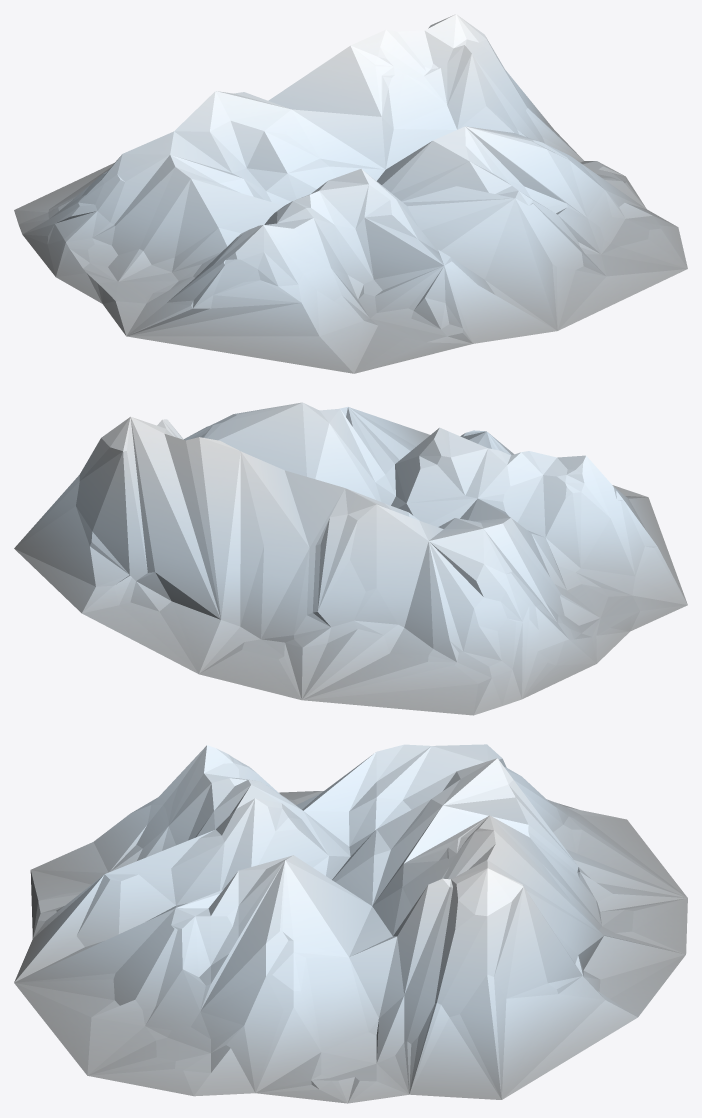
File: Mountain_002.FBX
3 renders of one model, top to bottom at view 1: azimuth 30°, elevation 25°; view 2: azimuth 150°, elevation 25°; view 3: azimuth 270°, elevation 25°, orthographic. The views are drawn at different scales.
Parts seen in each view (by area): view 1: Mountain_002; view 2: Mountain_002; view 3: Mountain_002.
Part boxes in pixels (x1,y1,x2,y2): Mountain_002: (14,14,687,373); Mountain_002: (14,402,687,715); Mountain_002: (14,744,687,1103).
Bounding box in the file's own units: 1643 × 425 × 1510.
1 material, 1 textured.
